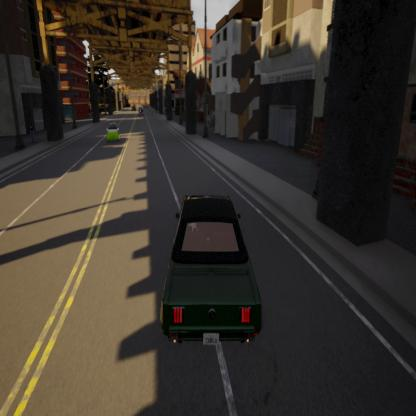Cars: (157, 186, 266, 354), (104, 118, 121, 147), (137, 104, 146, 119), (131, 104, 136, 114)
Pedestrian: (28, 120, 38, 147)
